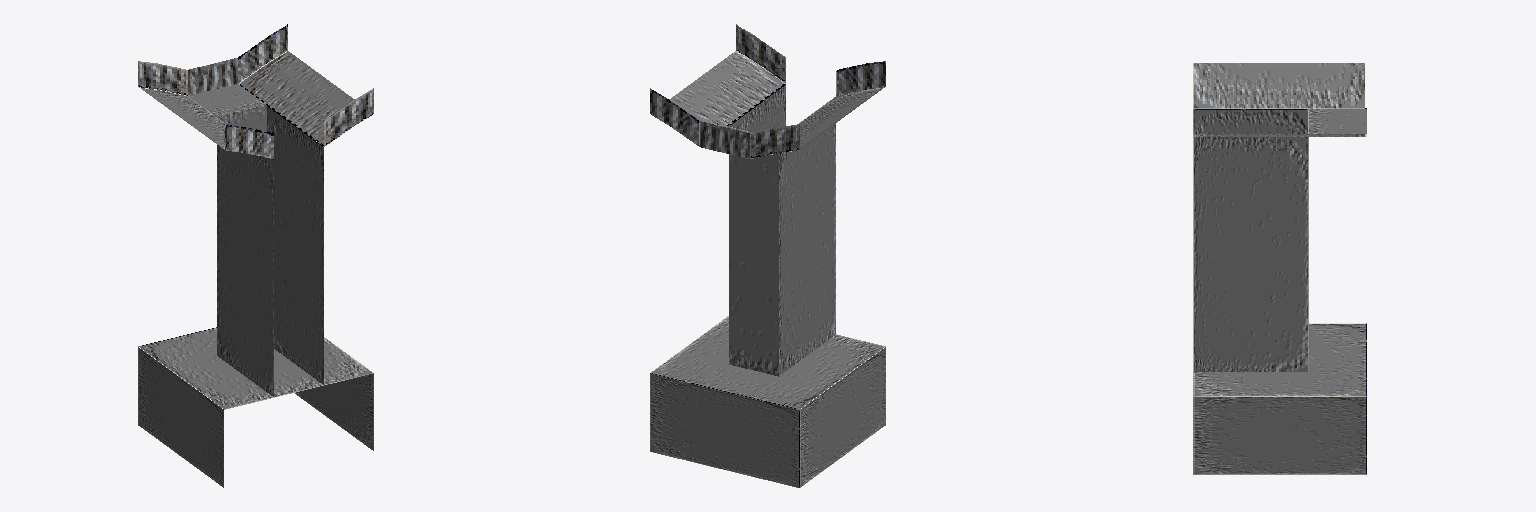
The picture shows the model from 3 angles: view 1: azimuth 30°, elevation 25°; view 2: azimuth 150°, elevation 25°; view 3: azimuth 270°, elevation 25°; orthographic projection.
Visible parts, largest first — view 1: WallEnd polySurface12, WallEnd polySurface11, WallEnd Wall_0002:pCube19, WallEnd polySurface13, WallEnd polySurface19, WallEnd Wall_0002:pCube20, WallEnd polySurface17, WallEnd polySurface15, WallEnd polySurface16, polySurface14 WallEnd; view 2: WallEnd polySurface12, WallEnd polySurface18, polySurface14 WallEnd, WallEnd polySurface13, WallEnd Wall_0002:pCube19, WallEnd polySurface19, WallEnd Wall_0002:pCube20, WallEnd polySurface11, WallEnd polySurface16; view 3: WallEnd polySurface11, WallEnd polySurface17, WallEnd Wall_0002:pCube20, WallEnd polySurface13, WallEnd polySurface12, WallEnd polySurface15.
Part boxes in pixels (x1,y1,x2,y2): WallEnd polySurface12: (217, 145, 273, 396); WallEnd polySurface11: (267, 106, 323, 384); WallEnd Wall_0002:pCube19: (238, 24, 373, 146); WallEnd polySurface13: (138, 327, 372, 409); WallEnd polySurface19: (138, 347, 223, 487); WallEnd Wall_0002:pCube20: (138, 61, 273, 158); WallEnd polySurface17: (295, 373, 373, 450); WallEnd polySurface15: (188, 84, 265, 116); WallEnd polySurface16: (188, 58, 237, 95); polySurface14 WallEnd: (217, 105, 266, 131); WallEnd polySurface12: (779, 124, 835, 375); WallEnd polySurface18: (650, 373, 799, 487); polySurface14 WallEnd: (729, 153, 778, 376); WallEnd polySurface13: (651, 316, 885, 409); WallEnd Wall_0002:pCube19: (650, 24, 785, 146); WallEnd polySurface19: (800, 347, 885, 487); WallEnd Wall_0002:pCube20: (750, 61, 885, 158); WallEnd polySurface11: (729, 84, 785, 131); WallEnd polySurface16: (700, 121, 749, 158); WallEnd polySurface11: (1193, 137, 1308, 371); WallEnd polySurface17: (1193, 397, 1366, 474); WallEnd Wall_0002:pCube20: (1193, 63, 1366, 108); WallEnd polySurface13: (1193, 323, 1366, 396); WallEnd polySurface12: (1193, 109, 1308, 133); WallEnd polySurface15: (1309, 109, 1366, 133).
Size of the model in its own units: 6 by 13.95 by 6.
1 materials, 1 textured.